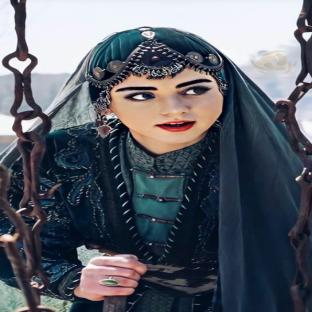Human: (35, 26, 301, 312)
